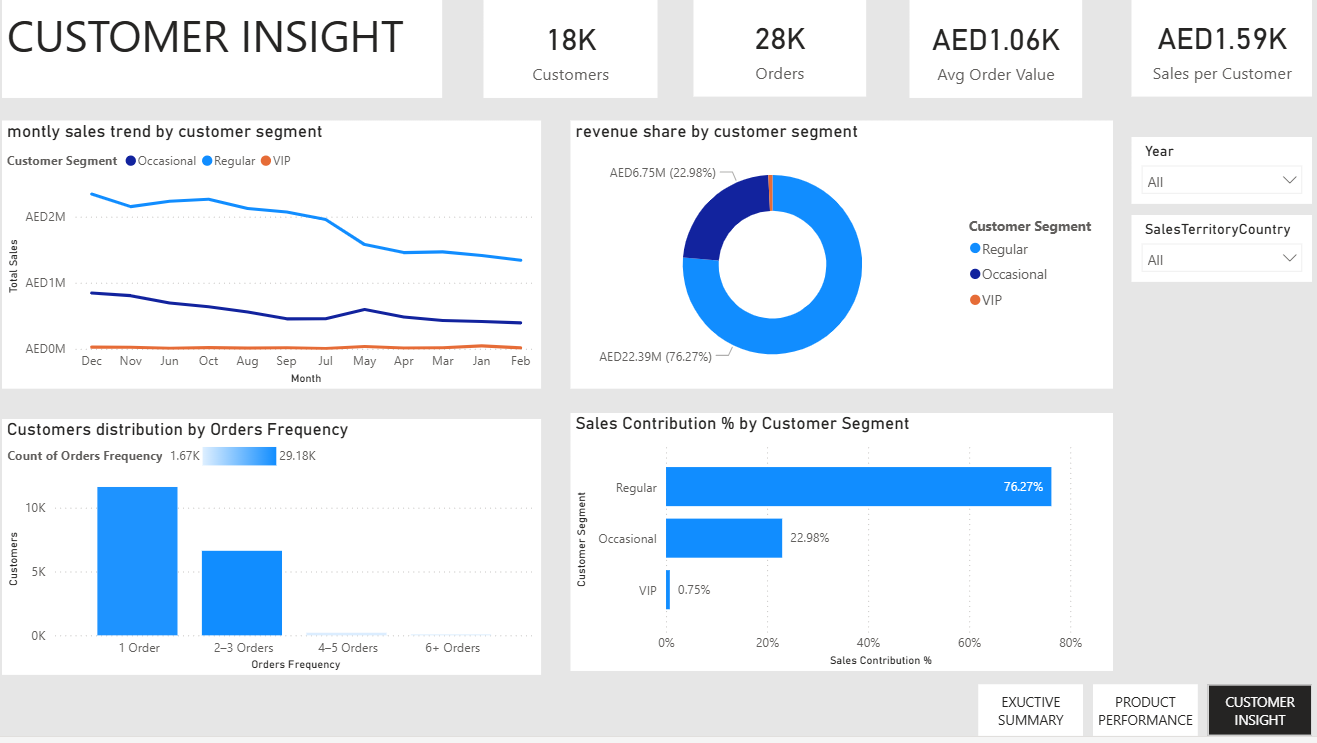

What the dashboard file says about the page in this screenshot:
{"tool":"powerbi","page":{"name":"CUSTOMER INSIGHT","canvas":[1280,720],"ordinal":2},"visuals":[{"type":"textbox","box":[0,0,430,96.7],"z":0},{"type":"card","fields":{"Values":["key_measures.Sales per Customer"]},"box":[1103.3,0,176.7,95],"z":1000},{"type":"card","fields":{"Values":["key_measures.Orders"]},"box":[675,0,168.3,95],"z":2000},{"type":"card","fields":{"Values":["key_measures.Customers"]},"box":[470,0,170,96.7],"z":3000},{"type":"slicer","fields":{"Values":["Calendar.Year"]},"box":[1103.3,135,176.7,65],"z":4000},{"type":"slicer","fields":{"Values":["DimSalesTerritory.SalesTerritoryCountry"]},"box":[1103.3,211.7,176.7,65],"z":5000},{"type":"card","fields":{"Values":["key_measures.Avg Order Value"]},"box":[886.7,0,168.3,96.7],"z":6000},{"type":"lineChart","title":"montly sales trend by customer segment","fields":{"Series":["Customer_Summary.Customer Segment"],"Category":["Calendar.Month"],"Y":["key_measures.Total Sales"]},"box":[0,118.3,526.7,261.7],"z":7000},{"type":"donutChart","title":"revenue share by customer segment","fields":{"Y":["key_measures.Total Sales"],"Category":["Customer_Summary.Customer Segment"]},"box":[555,118.3,530,261.7],"z":8000},{"type":"columnChart","title":"Customers distribution by Orders Frequency","fields":{"Category":["vw_Sales_Analysis.Orders Frequency"],"Y":["key_measures.Customers"]},"box":[0,410,526.7,250],"z":9000},{"type":"clusteredBarChart","fields":{"Category":["Customer_Summary.Customer Segment"],"Y":["key_measures.Sales Contribution %"]},"box":[555,405,530,251.7],"z":10000},{"type":"pageNavigator","box":[953.3,670,326.7,50],"z":11000}]}

Visuals, with their boxes in screenshot pixels (x1, y1, x2, y2), scaled from the page's 1280x720 canvas onto the 1317x743 screenshot:
textbox: {"left": 0, "top": 0, "right": 442, "bottom": 100}
card - key_measures.Sales per Customer: {"left": 1135, "top": 0, "right": 1316, "bottom": 98}
card - key_measures.Orders: {"left": 695, "top": 0, "right": 868, "bottom": 98}
card - key_measures.Customers: {"left": 484, "top": 0, "right": 658, "bottom": 100}
slicer - Calendar.Year: {"left": 1135, "top": 139, "right": 1316, "bottom": 206}
slicer - DimSalesTerritory.SalesTerritoryCountry: {"left": 1135, "top": 218, "right": 1316, "bottom": 286}
card - key_measures.Avg Order Value: {"left": 912, "top": 0, "right": 1085, "bottom": 100}
"montly sales trend by customer segment" lineChart: {"left": 0, "top": 122, "right": 542, "bottom": 392}
"revenue share by customer segment" donutChart: {"left": 571, "top": 122, "right": 1116, "bottom": 392}
"Customers distribution by Orders Frequency" columnChart: {"left": 0, "top": 423, "right": 542, "bottom": 681}
clusteredBarChart - Customer_Summary.Customer Segment x key_measures.Sales Contribution %: {"left": 571, "top": 418, "right": 1116, "bottom": 678}
pageNavigator: {"left": 981, "top": 691, "right": 1316, "bottom": 742}
